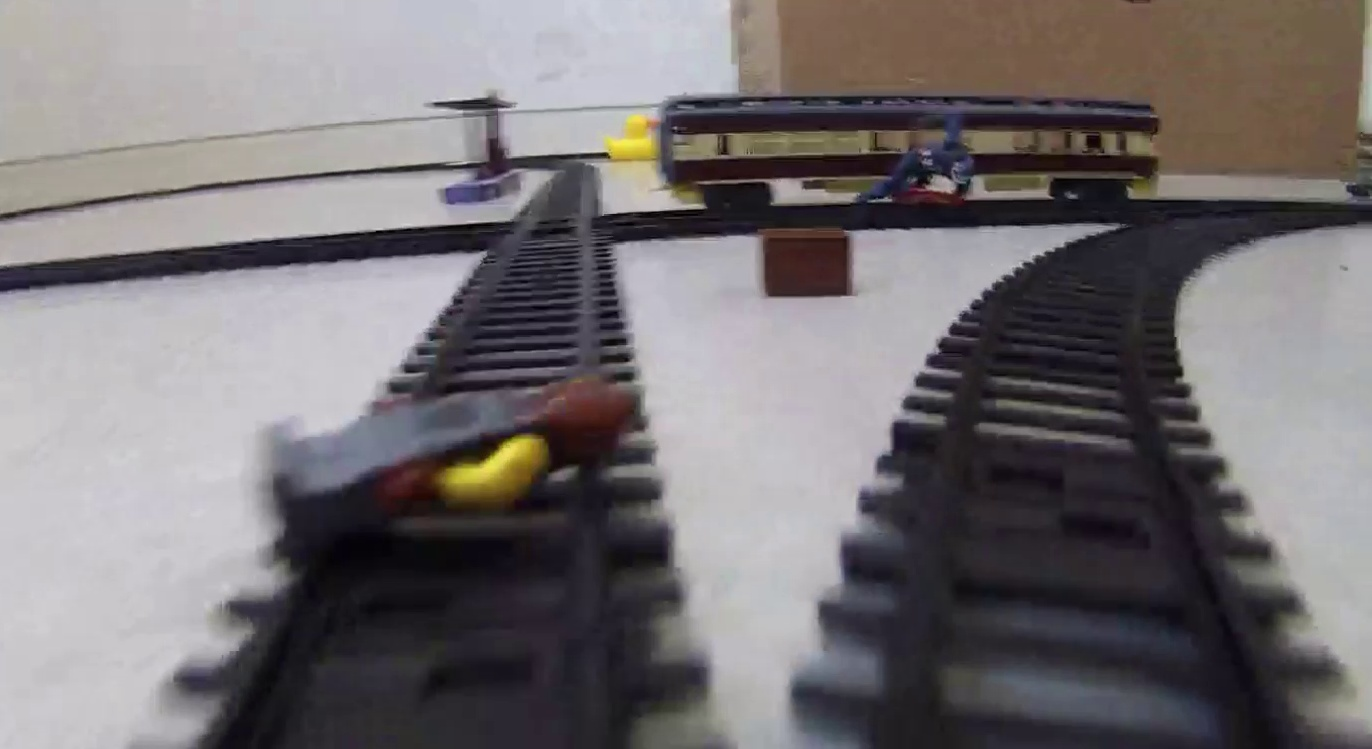people: (266, 371, 648, 553)
